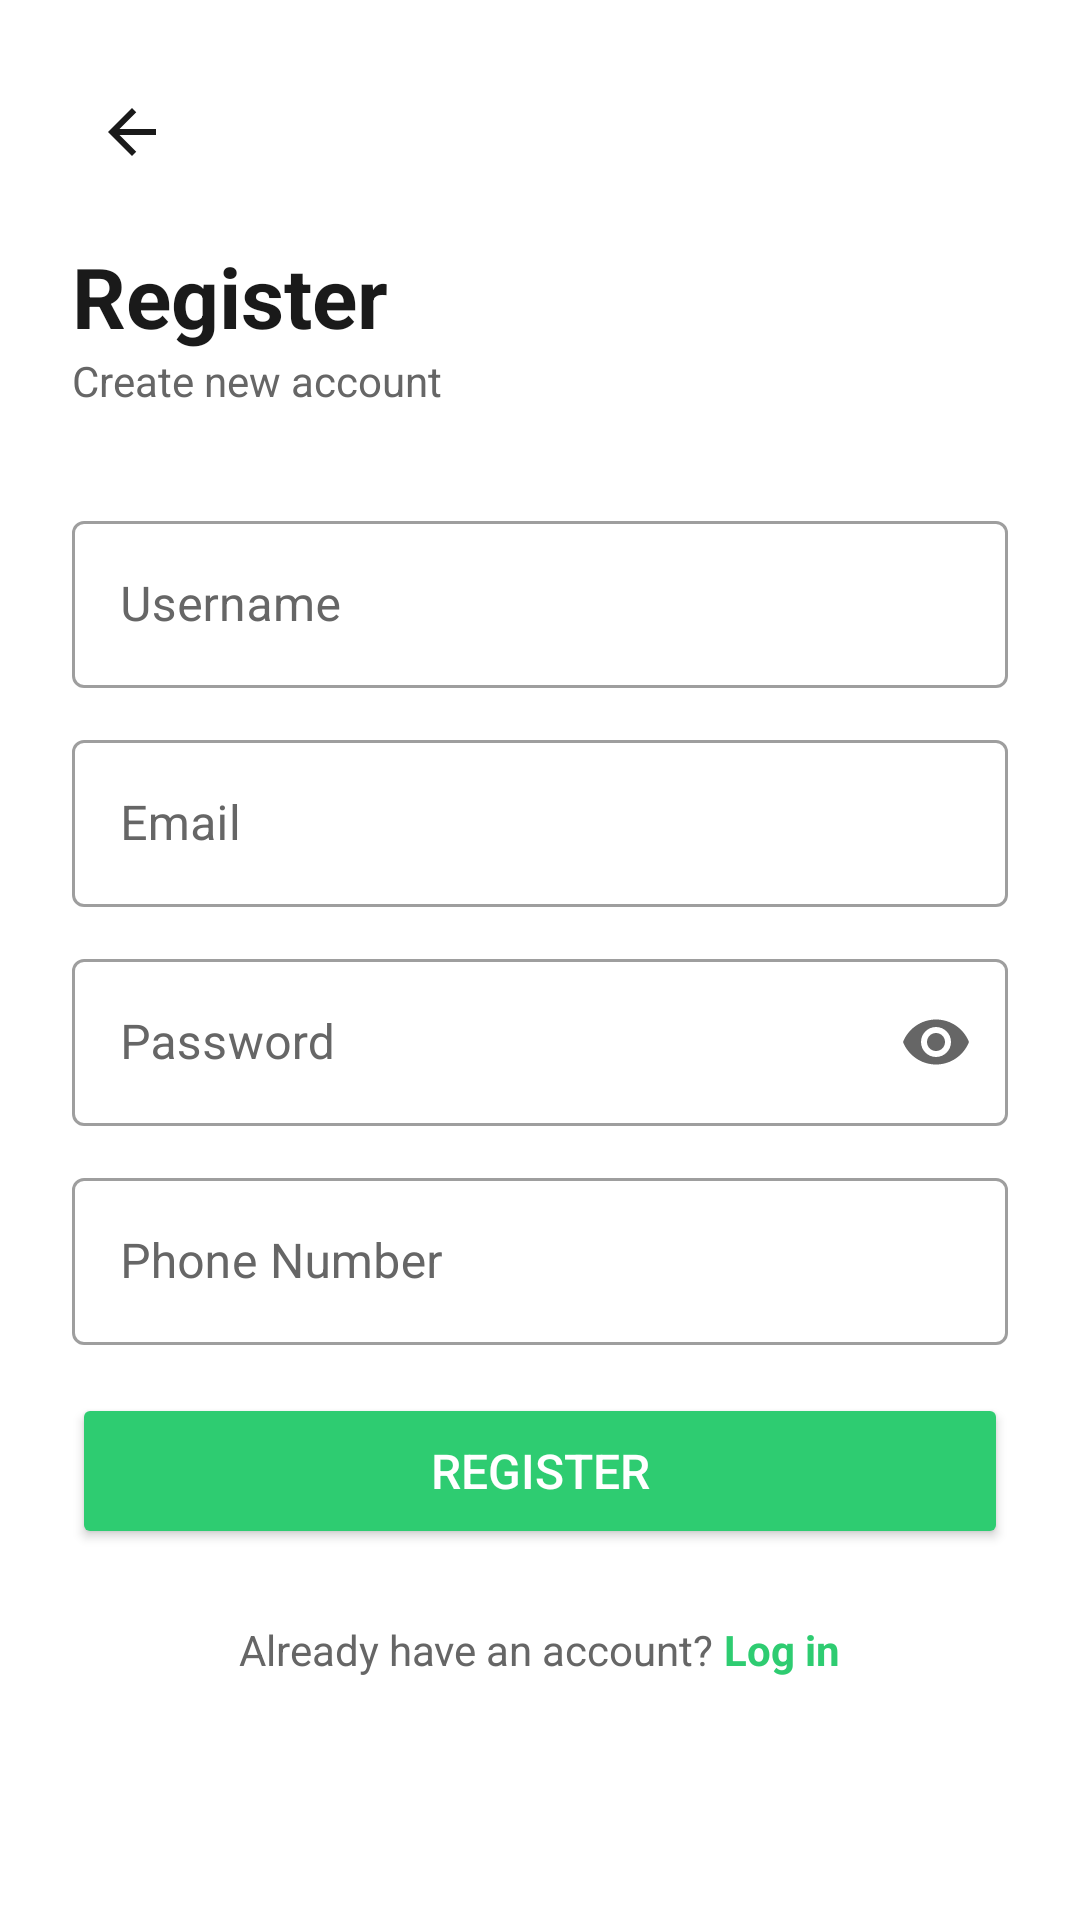

Icons on this 1080×1920 Android screen, each with its box as [x1,y1,x2,y2]:
back: [108,108,156,156]
